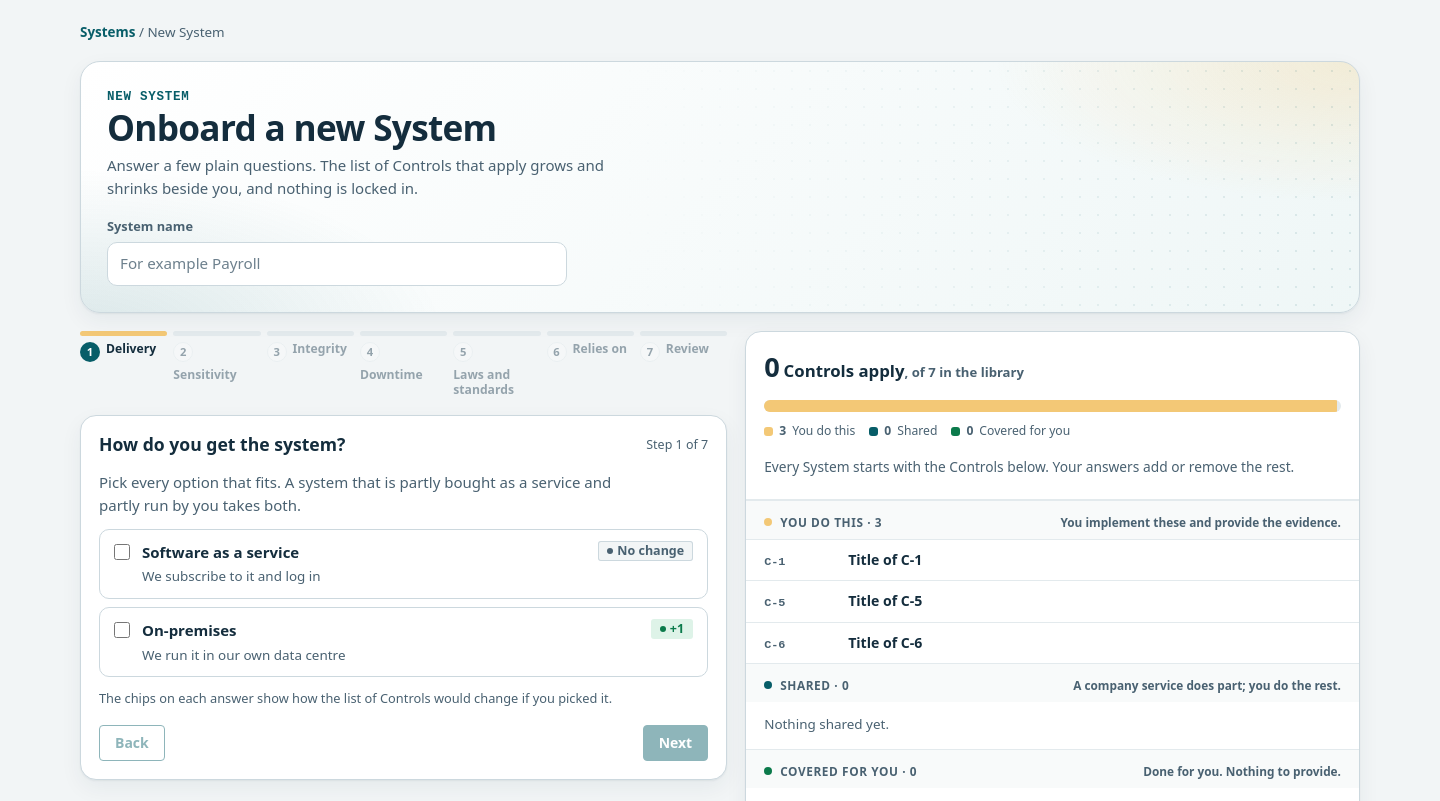
OnboardingInterview › steps forward and back, and jumps through the stepper
Expected: the heading "How do you get the system?" is shown, [99,432,345,457]
Click the checkbox labelled "Software as a service".
click(122, 552)  # box [114,544,130,560]
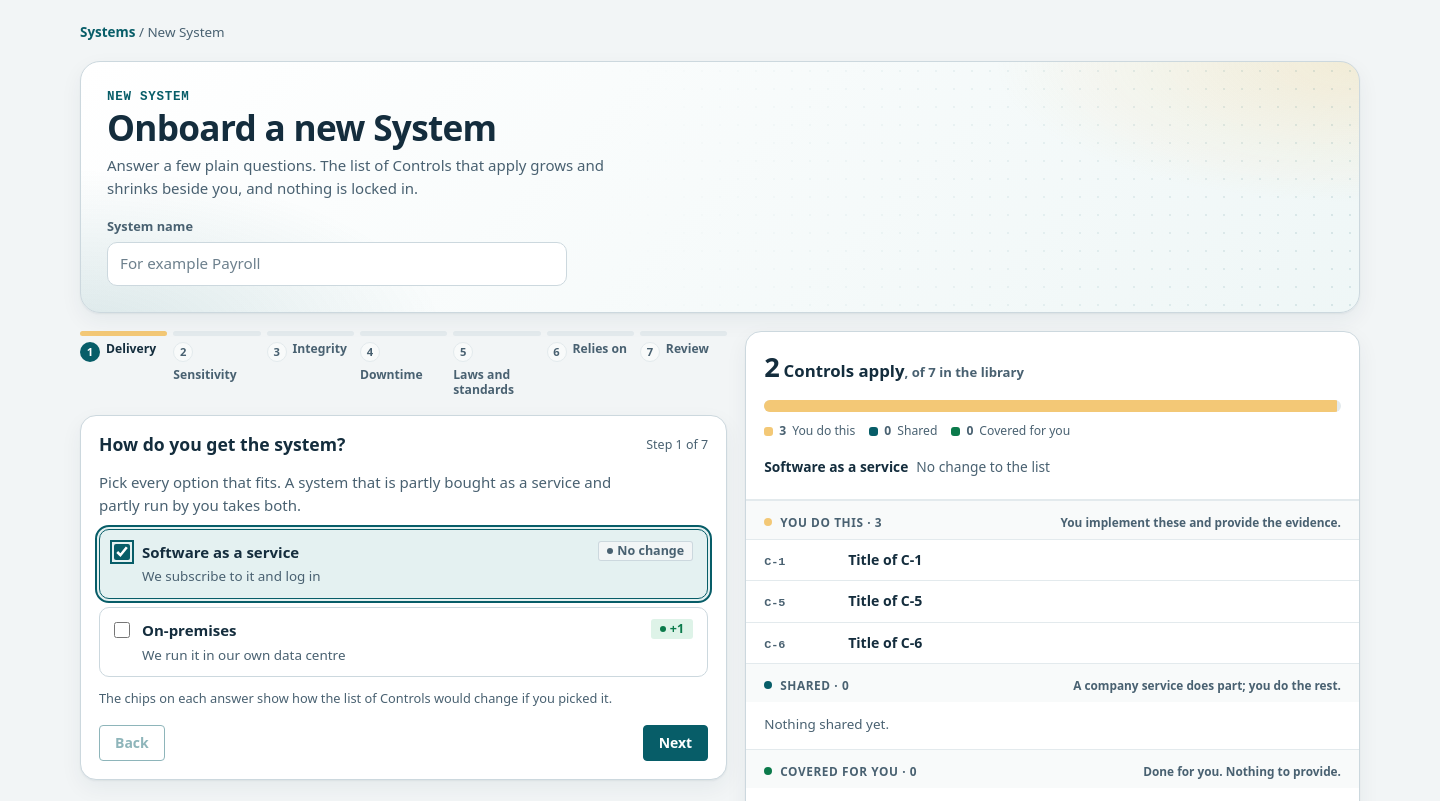
Click the button "Next".
click(675, 743)  # box [643,725,708,761]
(page scrolled)
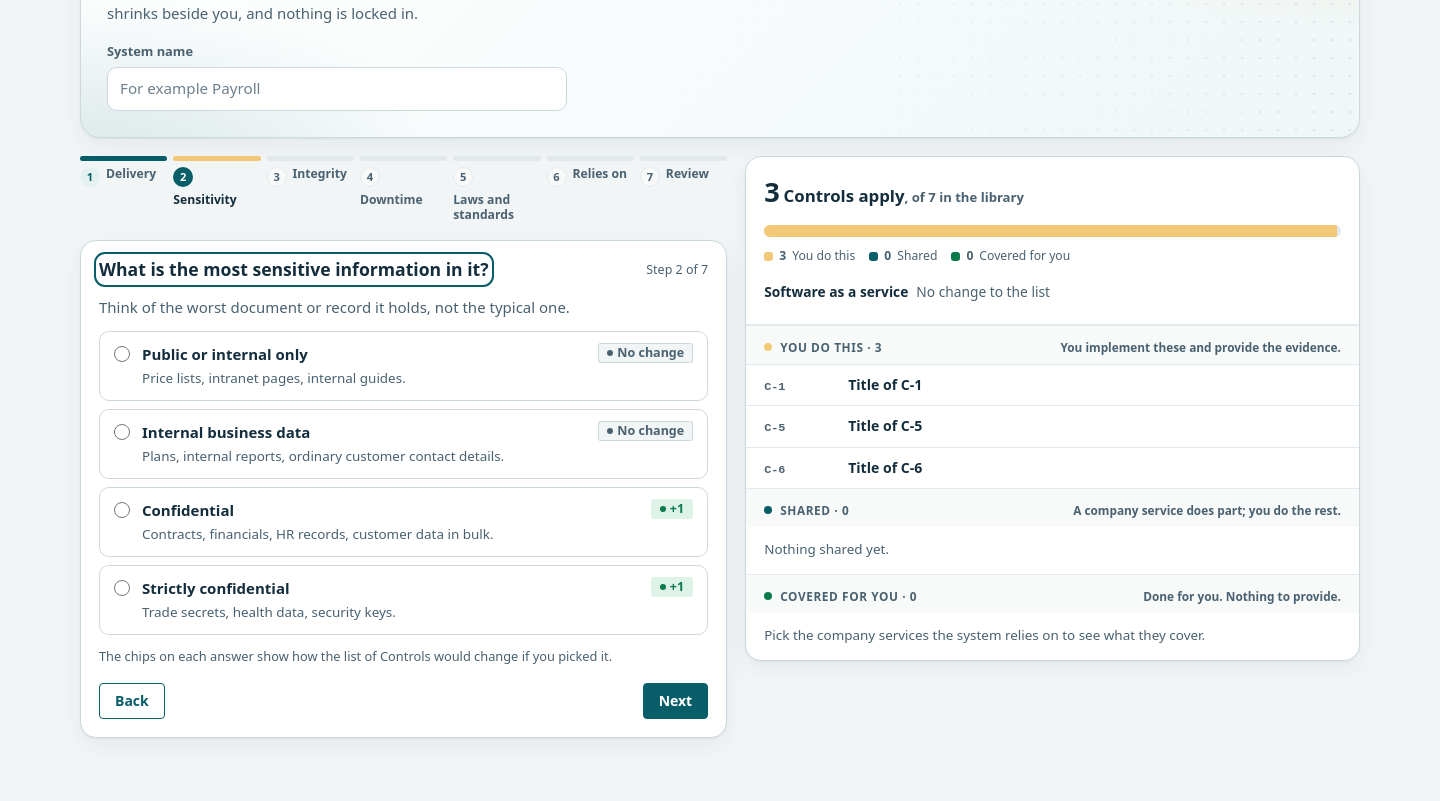
Result: the heading named "How do you get the system?" reads "What is the most sensitive information in it?" at [99,257,489,281]
Result: the text "Step 2 of 7" is shown at [646,260,708,279]
Click the button "Next".
click(675, 701)  # box [643,683,708,719]
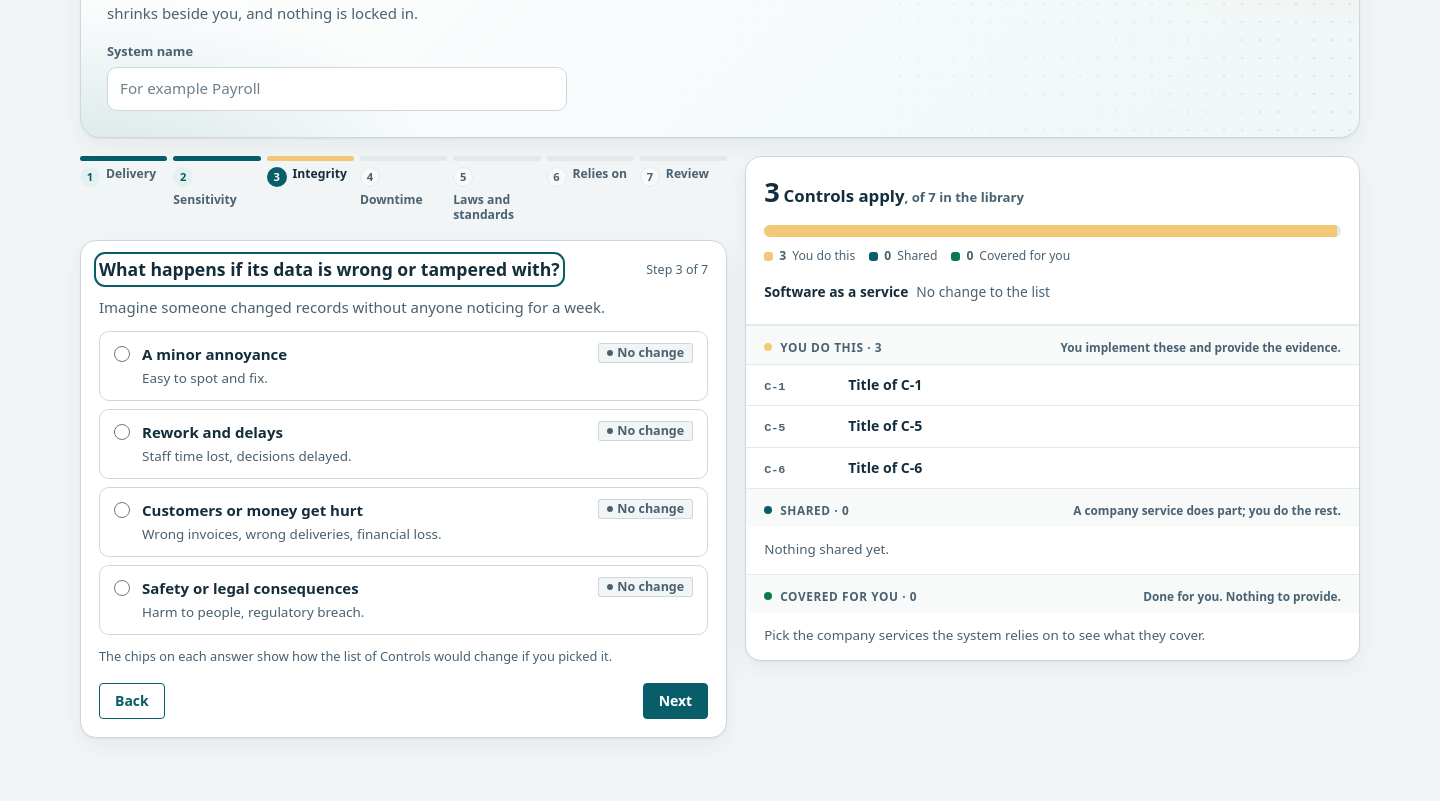
Result: the heading named "How do you get the system?" reads "What happens if its data is wrong or tampered with?" at [99,257,560,281]
Click the button "Back".
click(132, 701)  # box [99,683,165,719]
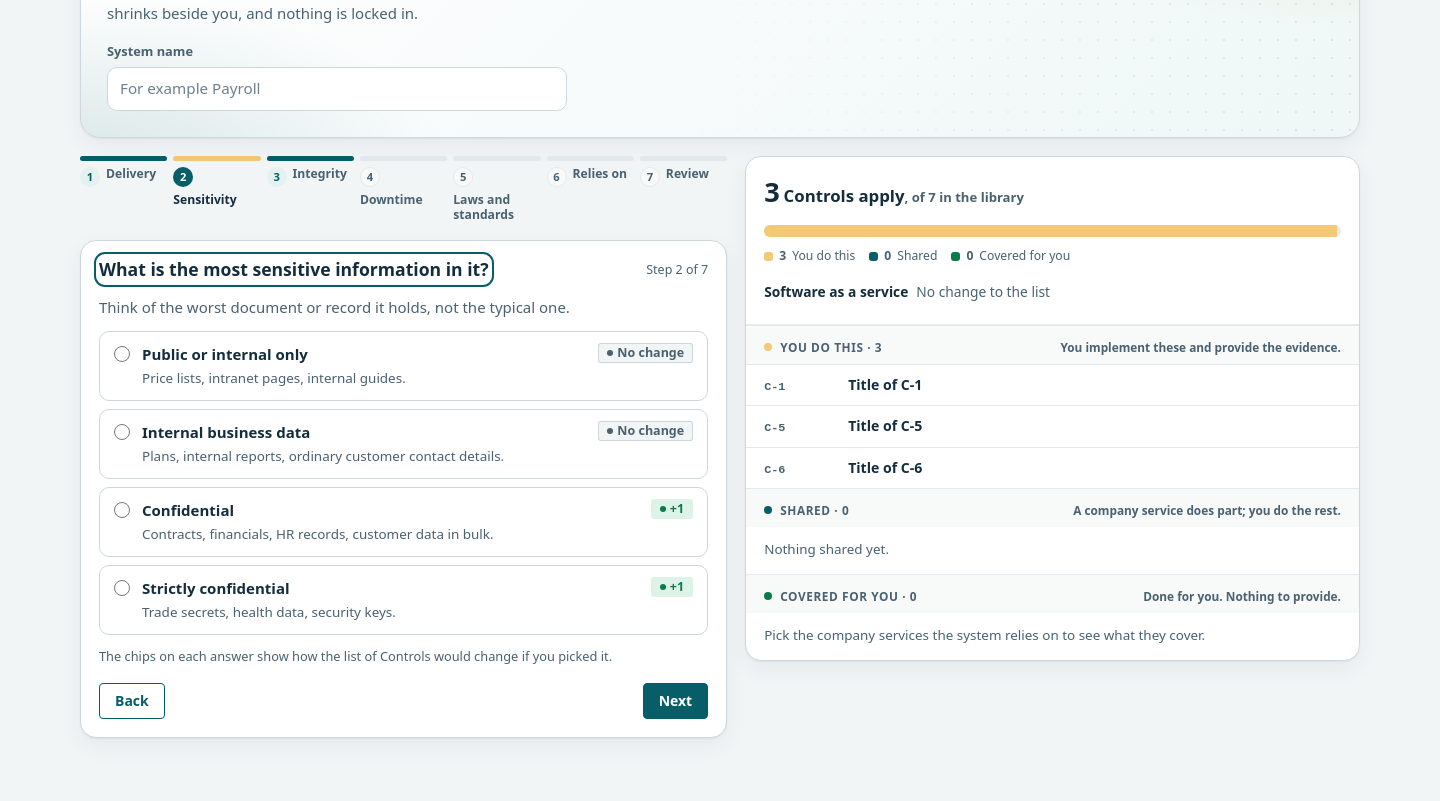
Result: the heading named "How do you get the system?" reads "What is the most sensitive information in it?" at [99,257,489,281]
Click the button "6 Relies on".
click(590, 177)  # box [544,165,637,189]
(page scrolled)
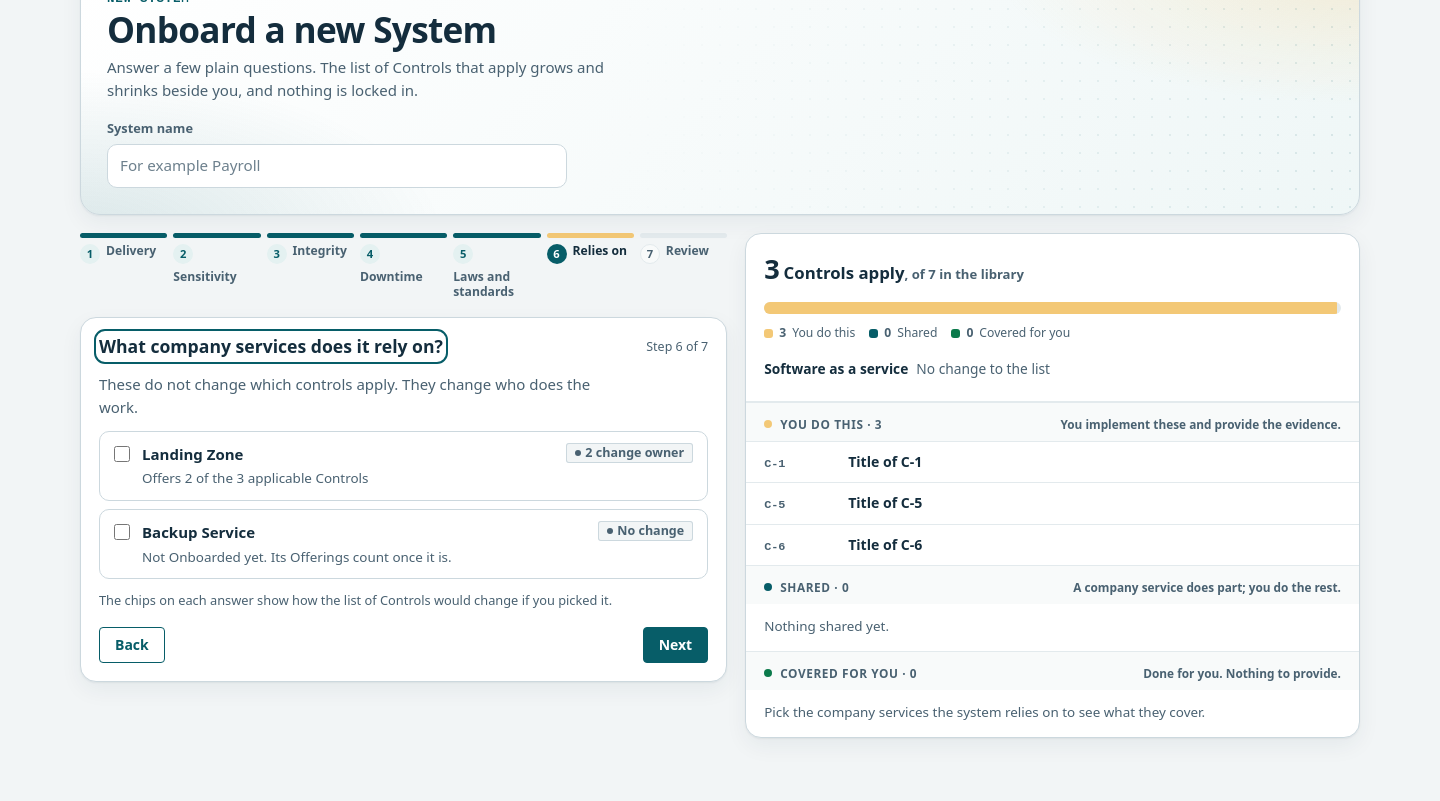
Result: the heading named "How do you get the system?" reads "What company services does it rely on?" at [99,334,443,358]
Click the button "1 Delivery".
click(124, 254)  # box [77,242,170,266]
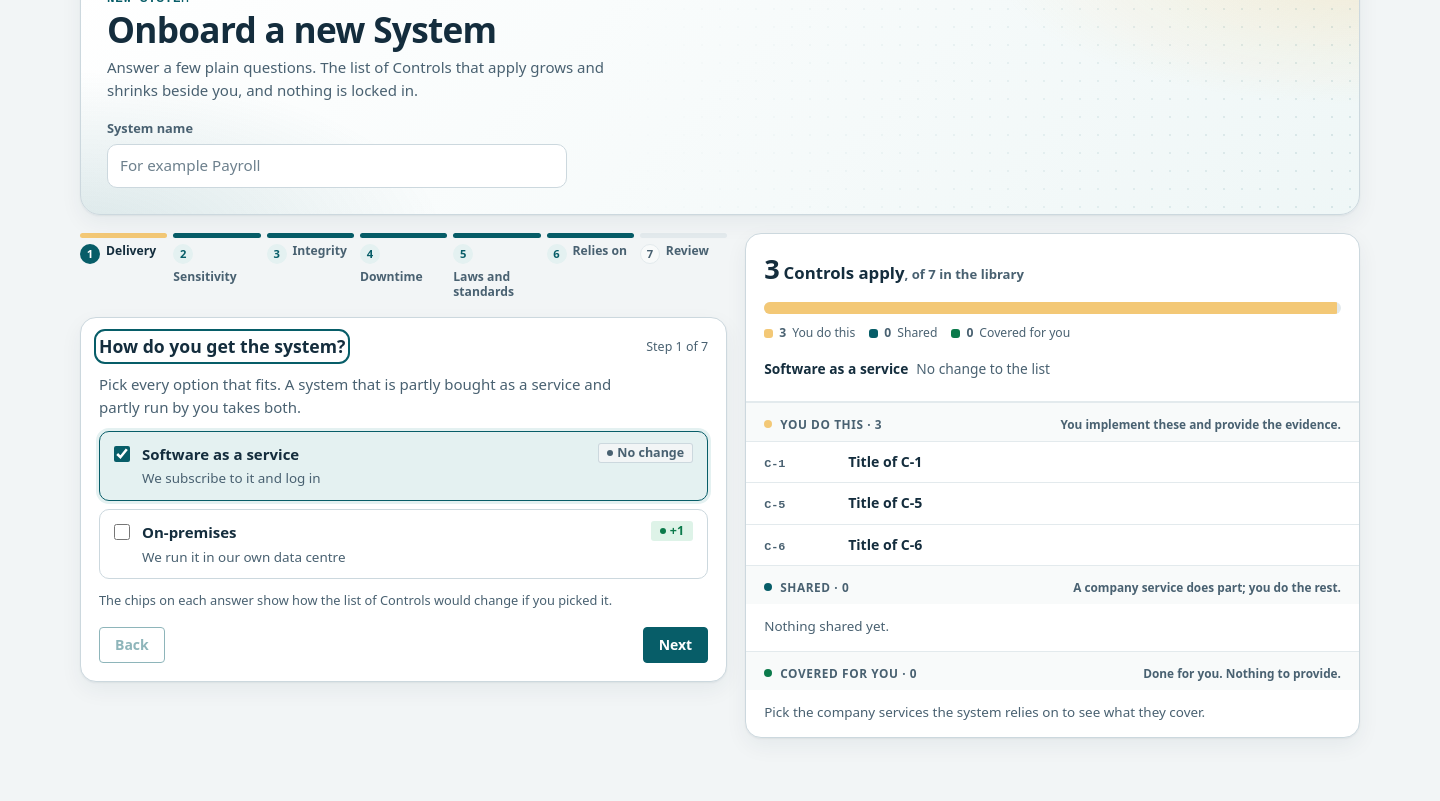
Result: the heading "How do you get the system?" is shown at [99,334,345,359]
Result: the checkbox labelled "Software as a service" is checked at [114,446,130,462]
